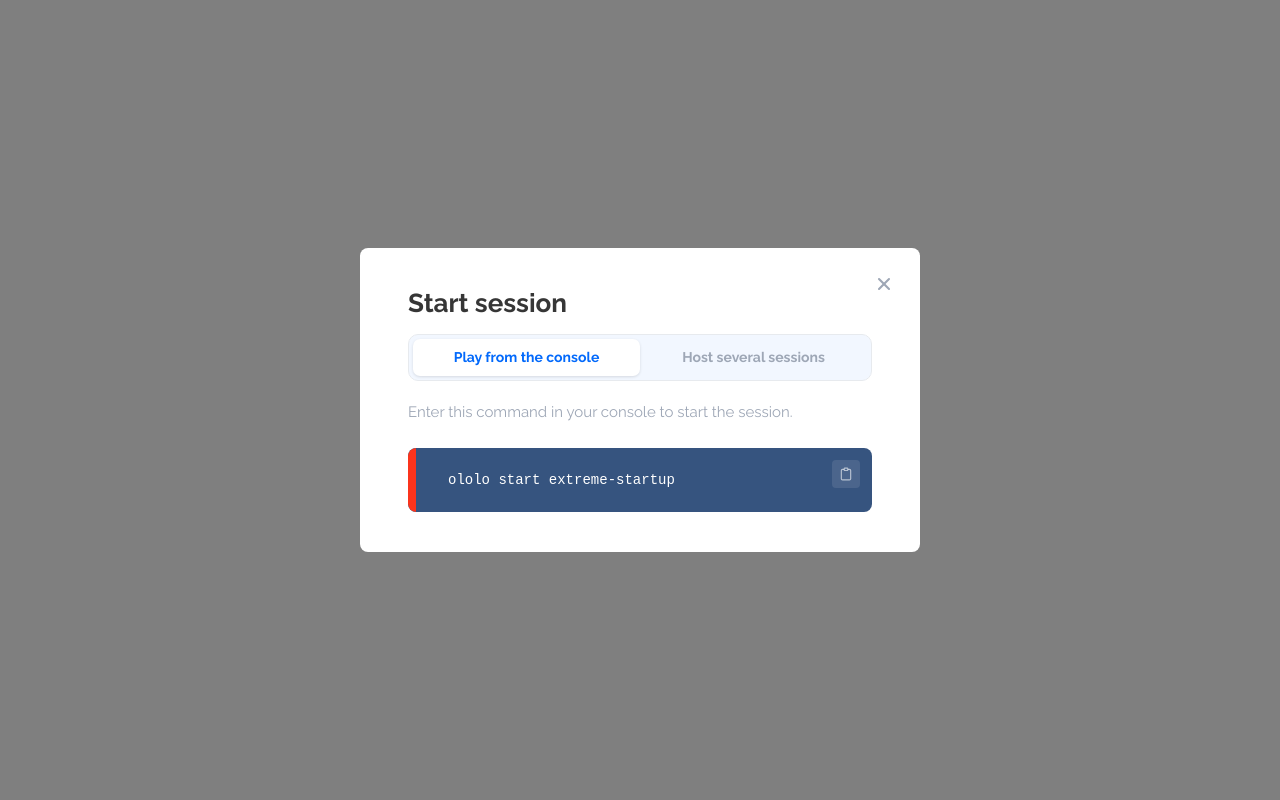
Test: StartSessionPopup › creates sessions named after the project, and the new one shows up
The image size is (1280, 800).
Click the tab "Host several sessions" at (754, 358), box [640,339,867,376]
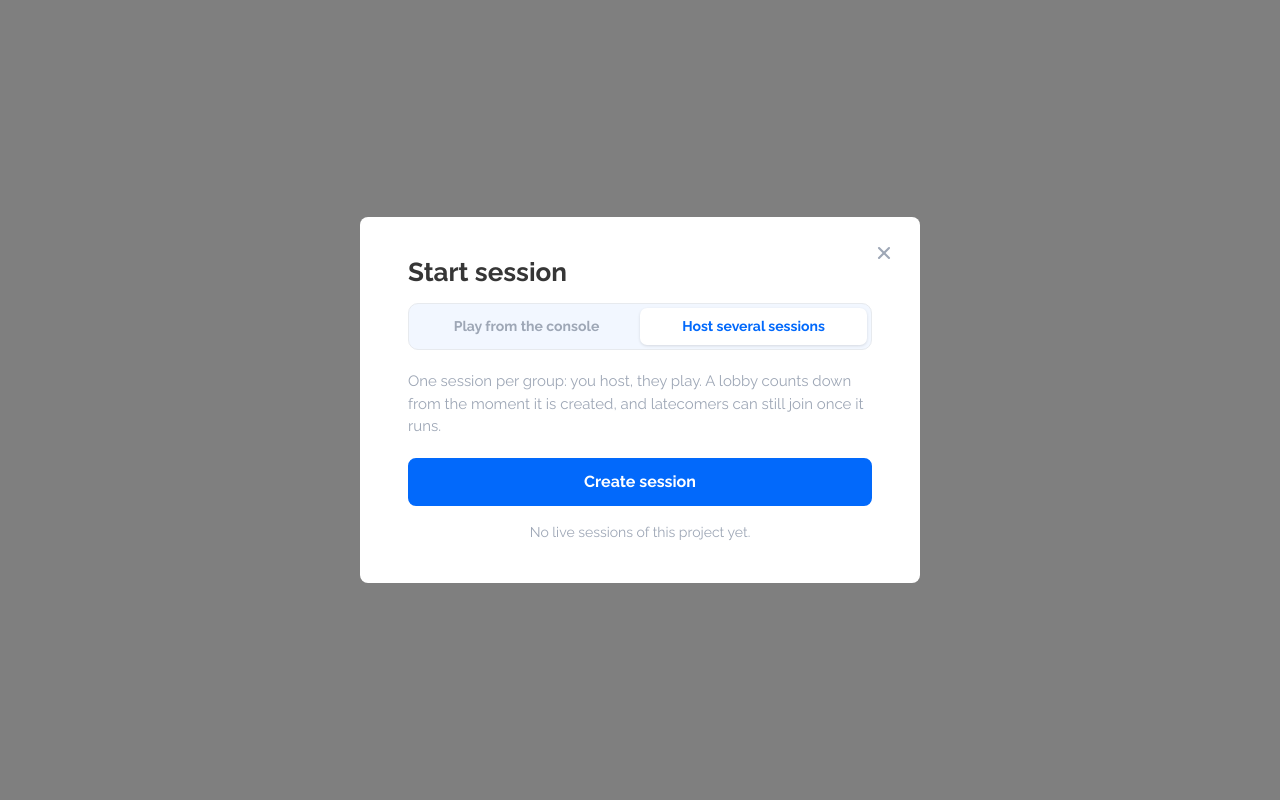
Click the button "Create session" at (640, 482), box [408,458,872,506]
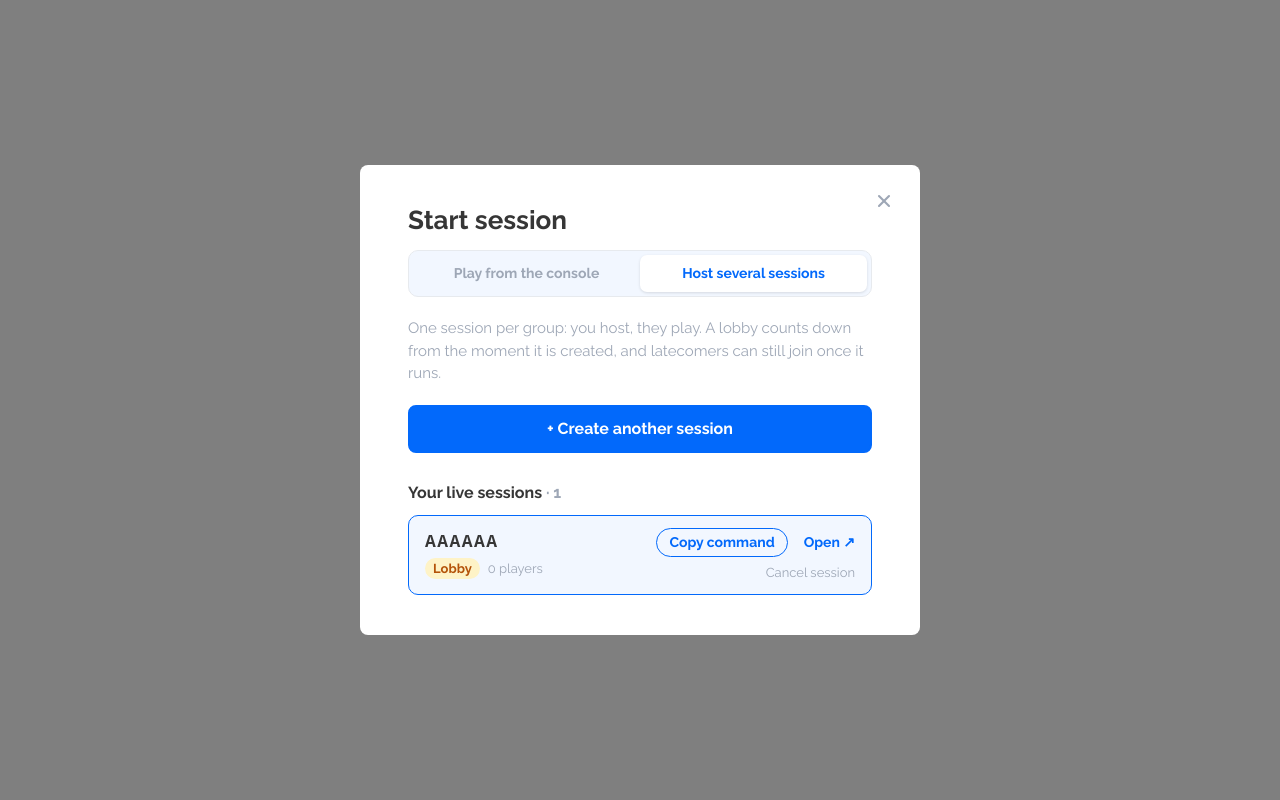
Click the button "+ Create another session" at (640, 429), box [408,405,872,453]
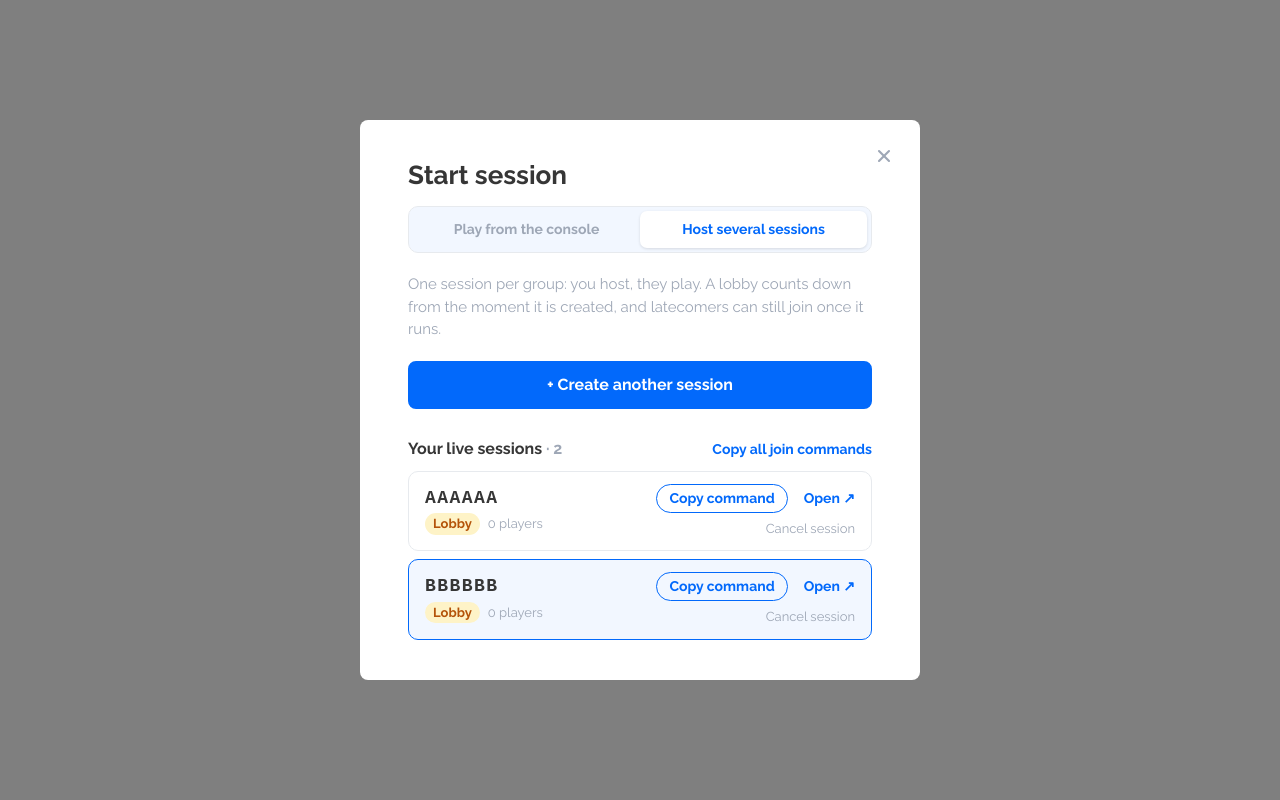
Check: the button "Copy all join commands" is shown, box [712,439,872,460]
